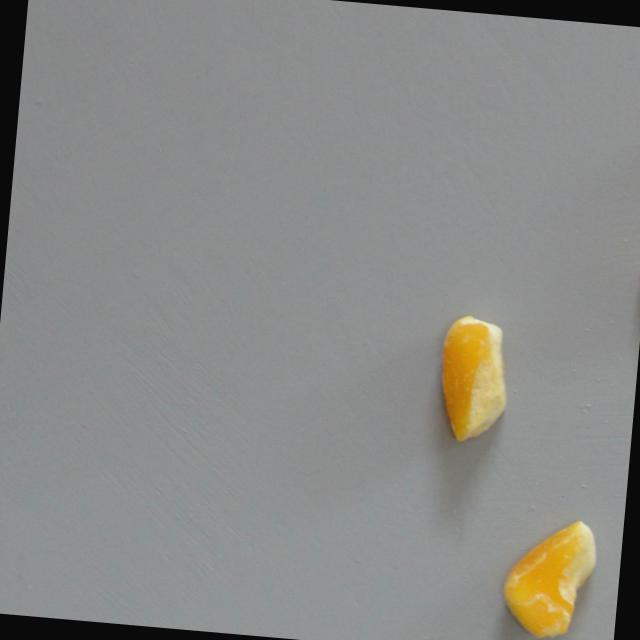estandar: (431, 310, 521, 450)
pelicula: (484, 524, 618, 629)
